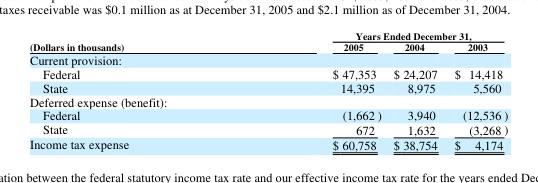table: (29, 28, 507, 152)
table column: (29, 28, 229, 152), (229, 28, 386, 152), (445, 28, 507, 152), (386, 28, 445, 152)
table column header: (29, 28, 507, 52)
table projected row header: (29, 52, 507, 66), (29, 93, 507, 107)
table row: (29, 136, 507, 152), (29, 121, 507, 136), (29, 52, 507, 66), (29, 66, 507, 80), (29, 93, 507, 107), (29, 107, 507, 121), (29, 28, 507, 41), (29, 80, 507, 93), (29, 41, 507, 52)
table spanning cell: (29, 28, 229, 52), (229, 28, 507, 41)
